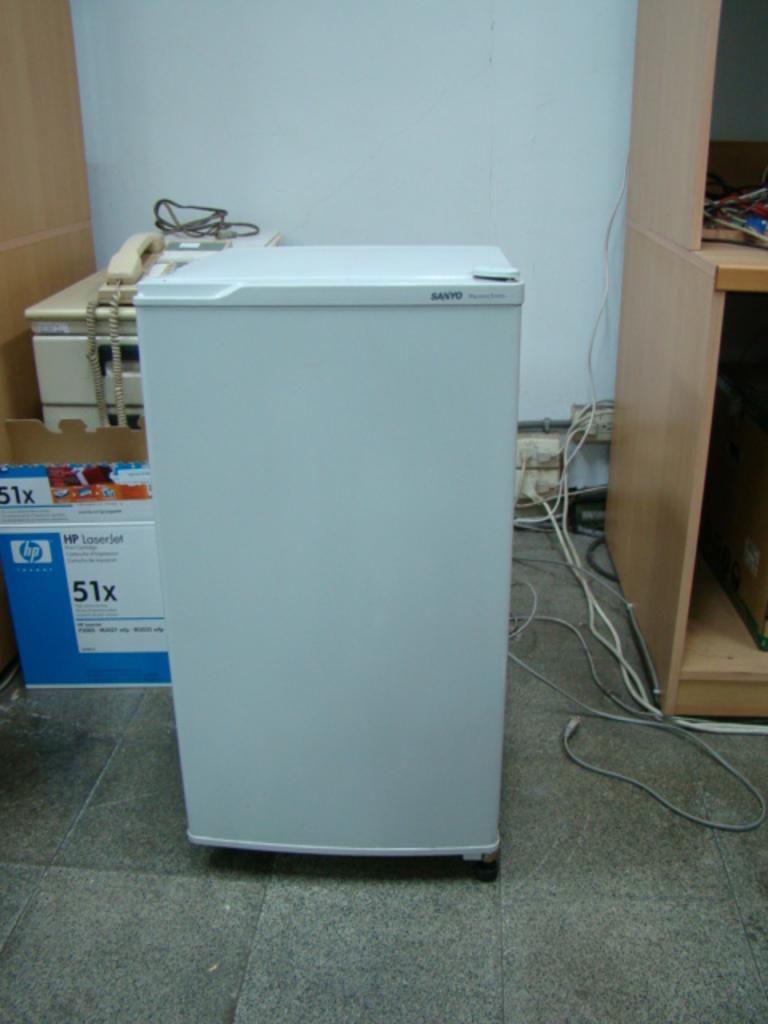handle: (139, 289, 231, 320)
